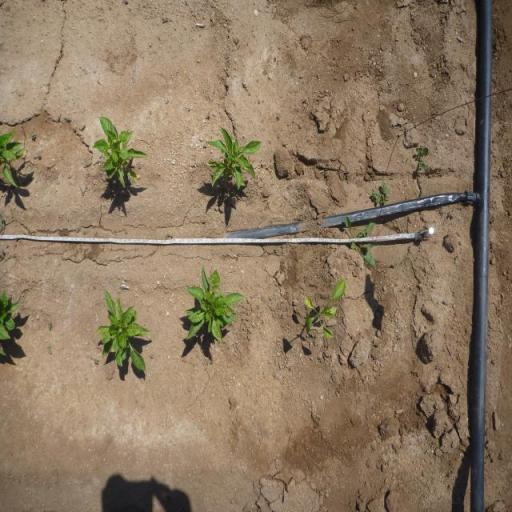plant: (183, 262, 247, 344), (92, 289, 152, 374), (91, 114, 151, 188), (207, 124, 261, 190), (304, 277, 346, 339), (0, 128, 27, 189), (0, 289, 22, 359)
weed: (344, 216, 376, 270), (414, 146, 430, 171), (370, 191, 381, 204), (381, 193, 390, 206), (381, 182, 389, 193), (165, 231, 173, 239), (30, 130, 36, 139), (94, 357, 99, 367), (47, 321, 52, 331), (82, 229, 88, 236), (92, 231, 98, 238), (122, 227, 128, 234), (36, 151, 42, 157), (76, 226, 82, 232), (392, 261, 397, 268), (298, 186, 303, 193), (276, 113, 281, 118), (274, 247, 278, 253), (150, 354, 154, 359), (374, 281, 377, 284), (208, 112, 210, 116)
